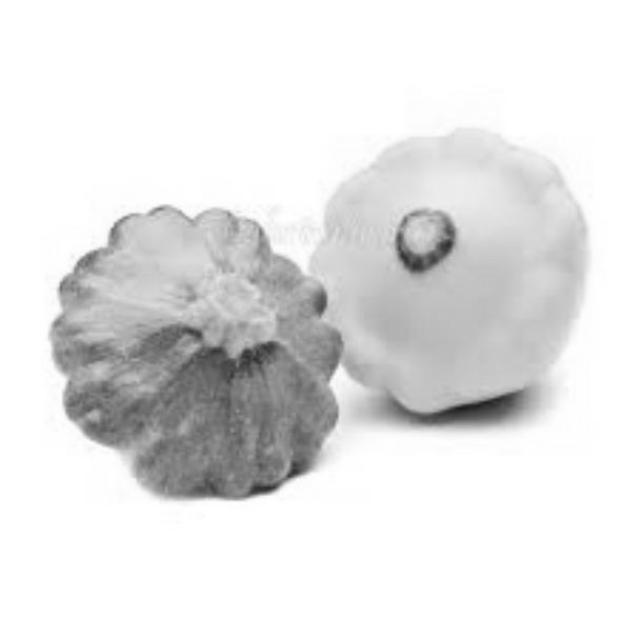squash: (40, 199, 349, 521), (297, 111, 602, 424)
